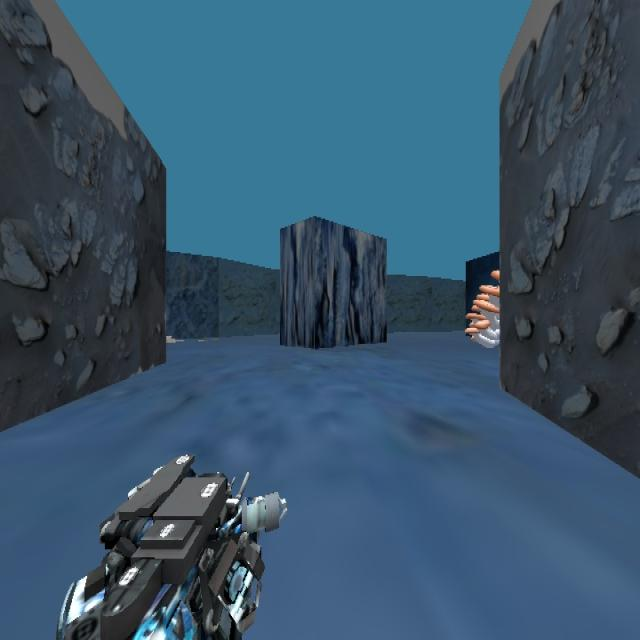Mushroom: (464, 268, 500, 348)
